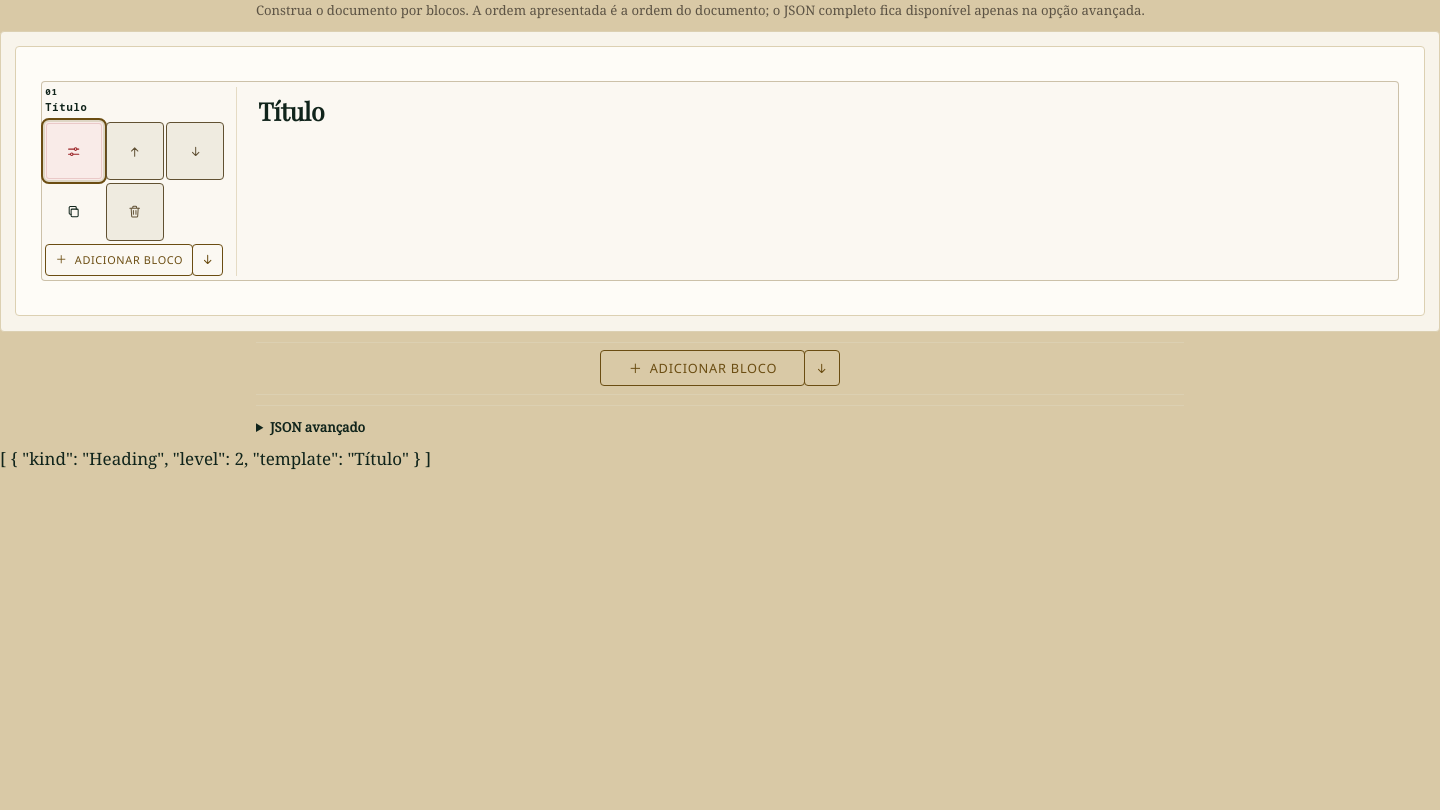
TemplateBlocksEditor › opens block settings only in an accessible right-side drawer and restores focus on Escape
Check: the field labelled "Nível do título" is not shown
Click the button named "Configurar bloco 1" at (74, 151), box [45,122,103,180]
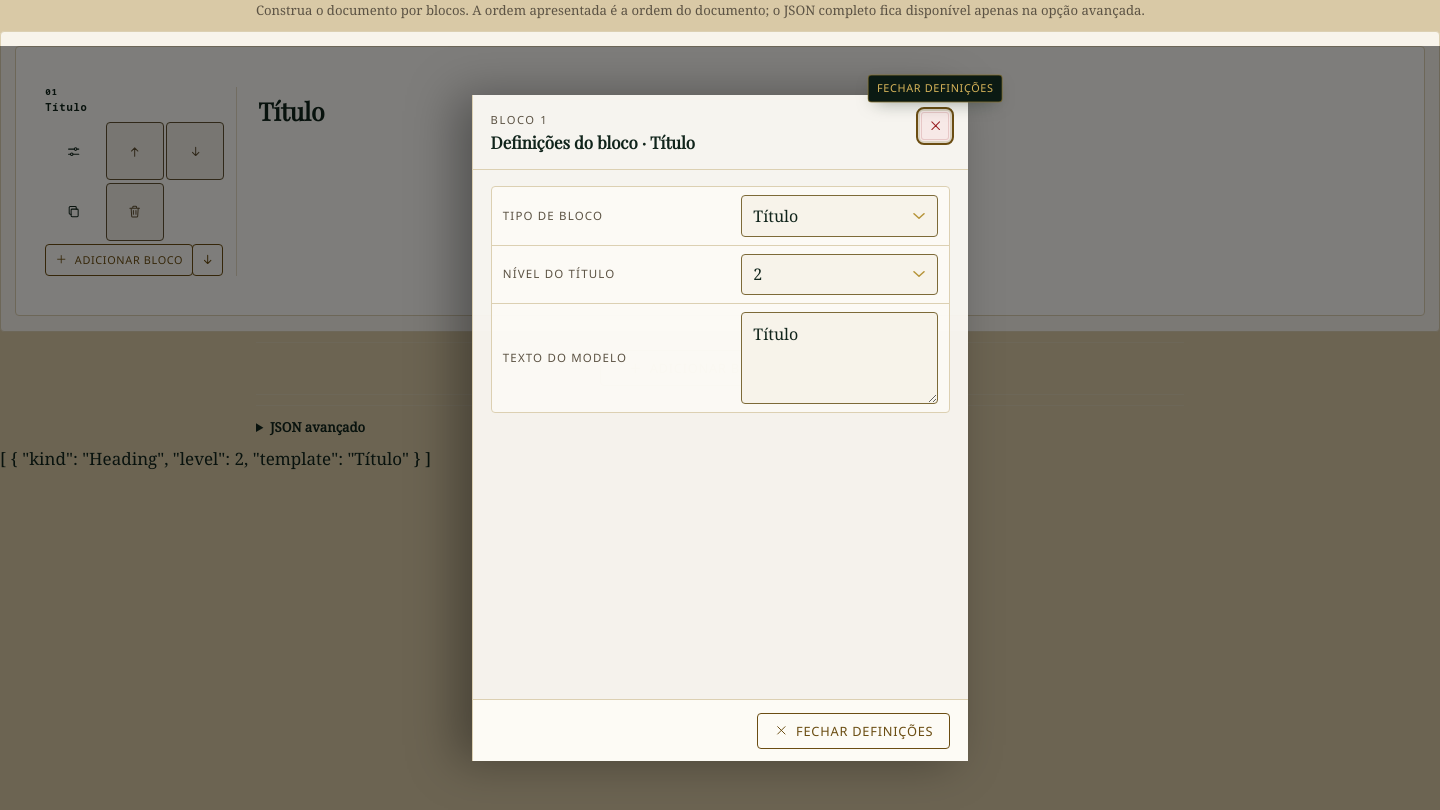
Check: the dropdown labelled "Tipo de bloco" is shown, box [741,195,938,236]
Check: the dropdown labelled "Nível do título" is shown
Check: the number of buttons named "Fechar definições" is 2, box [920,111,950,141]; [757,713,950,749]
Select "3" in the dropdown labelled "Nível do título" at (840, 274), box [741,254,938,295]
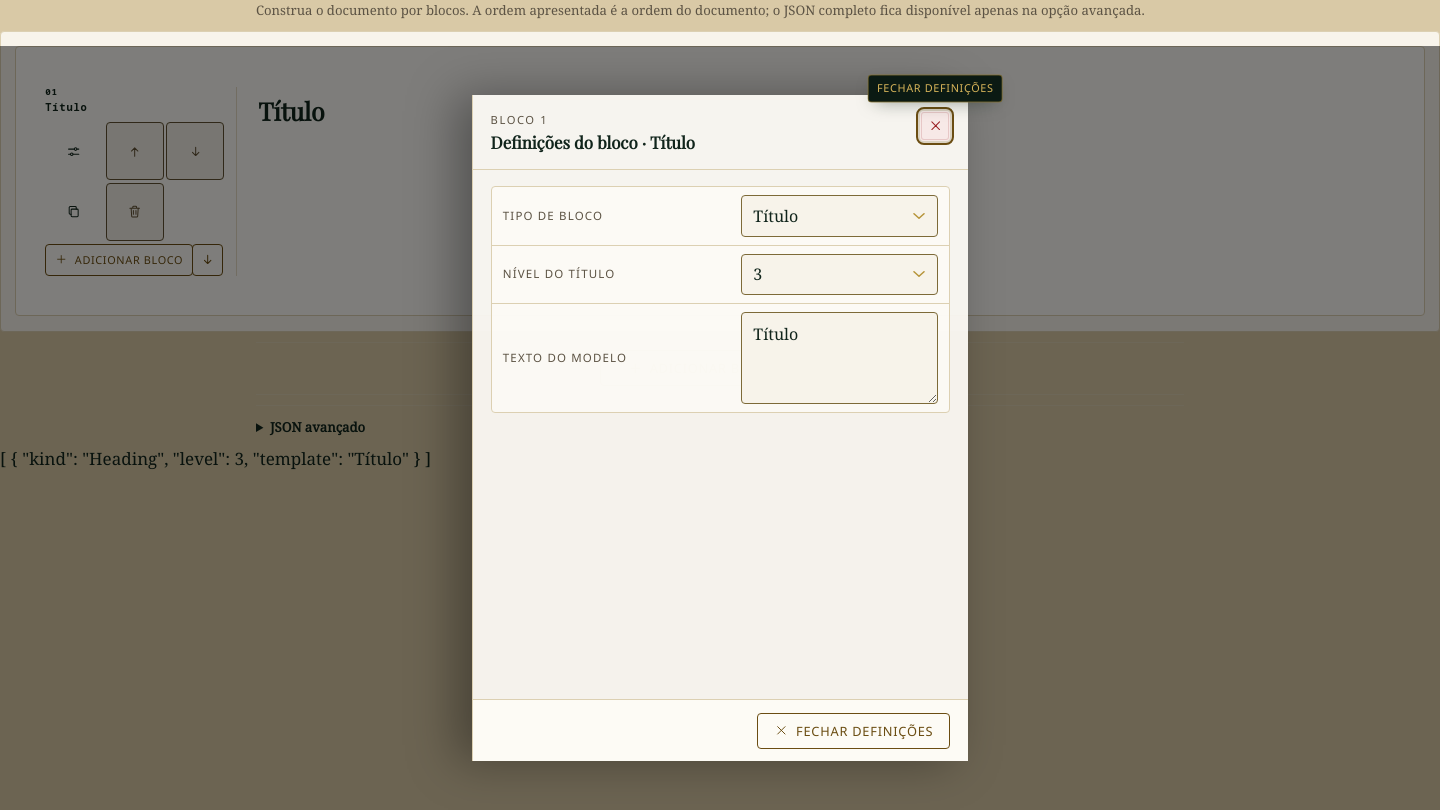
Press Escape
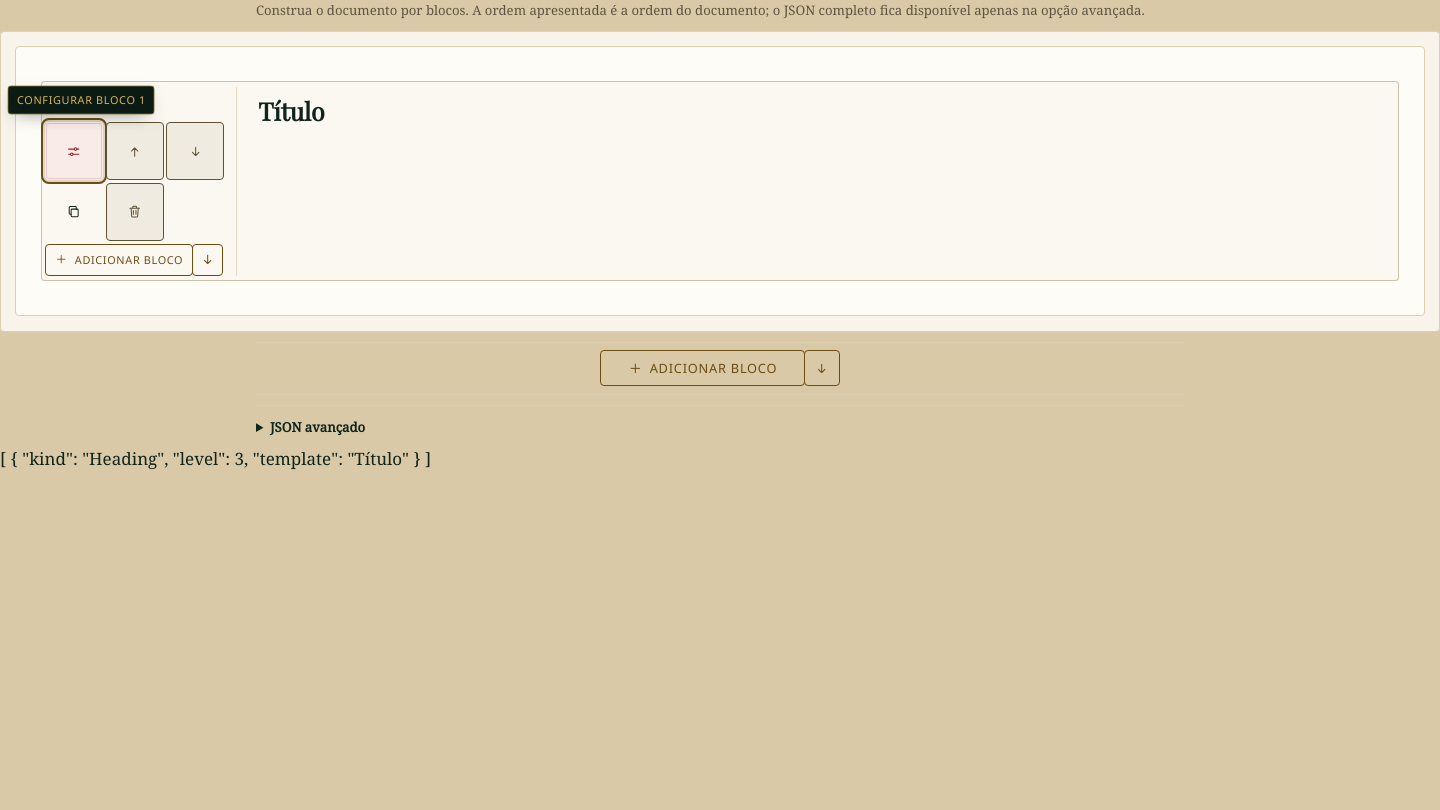
Check: the dialog "Bloco 1 Definições do bloco · Título" is gone
